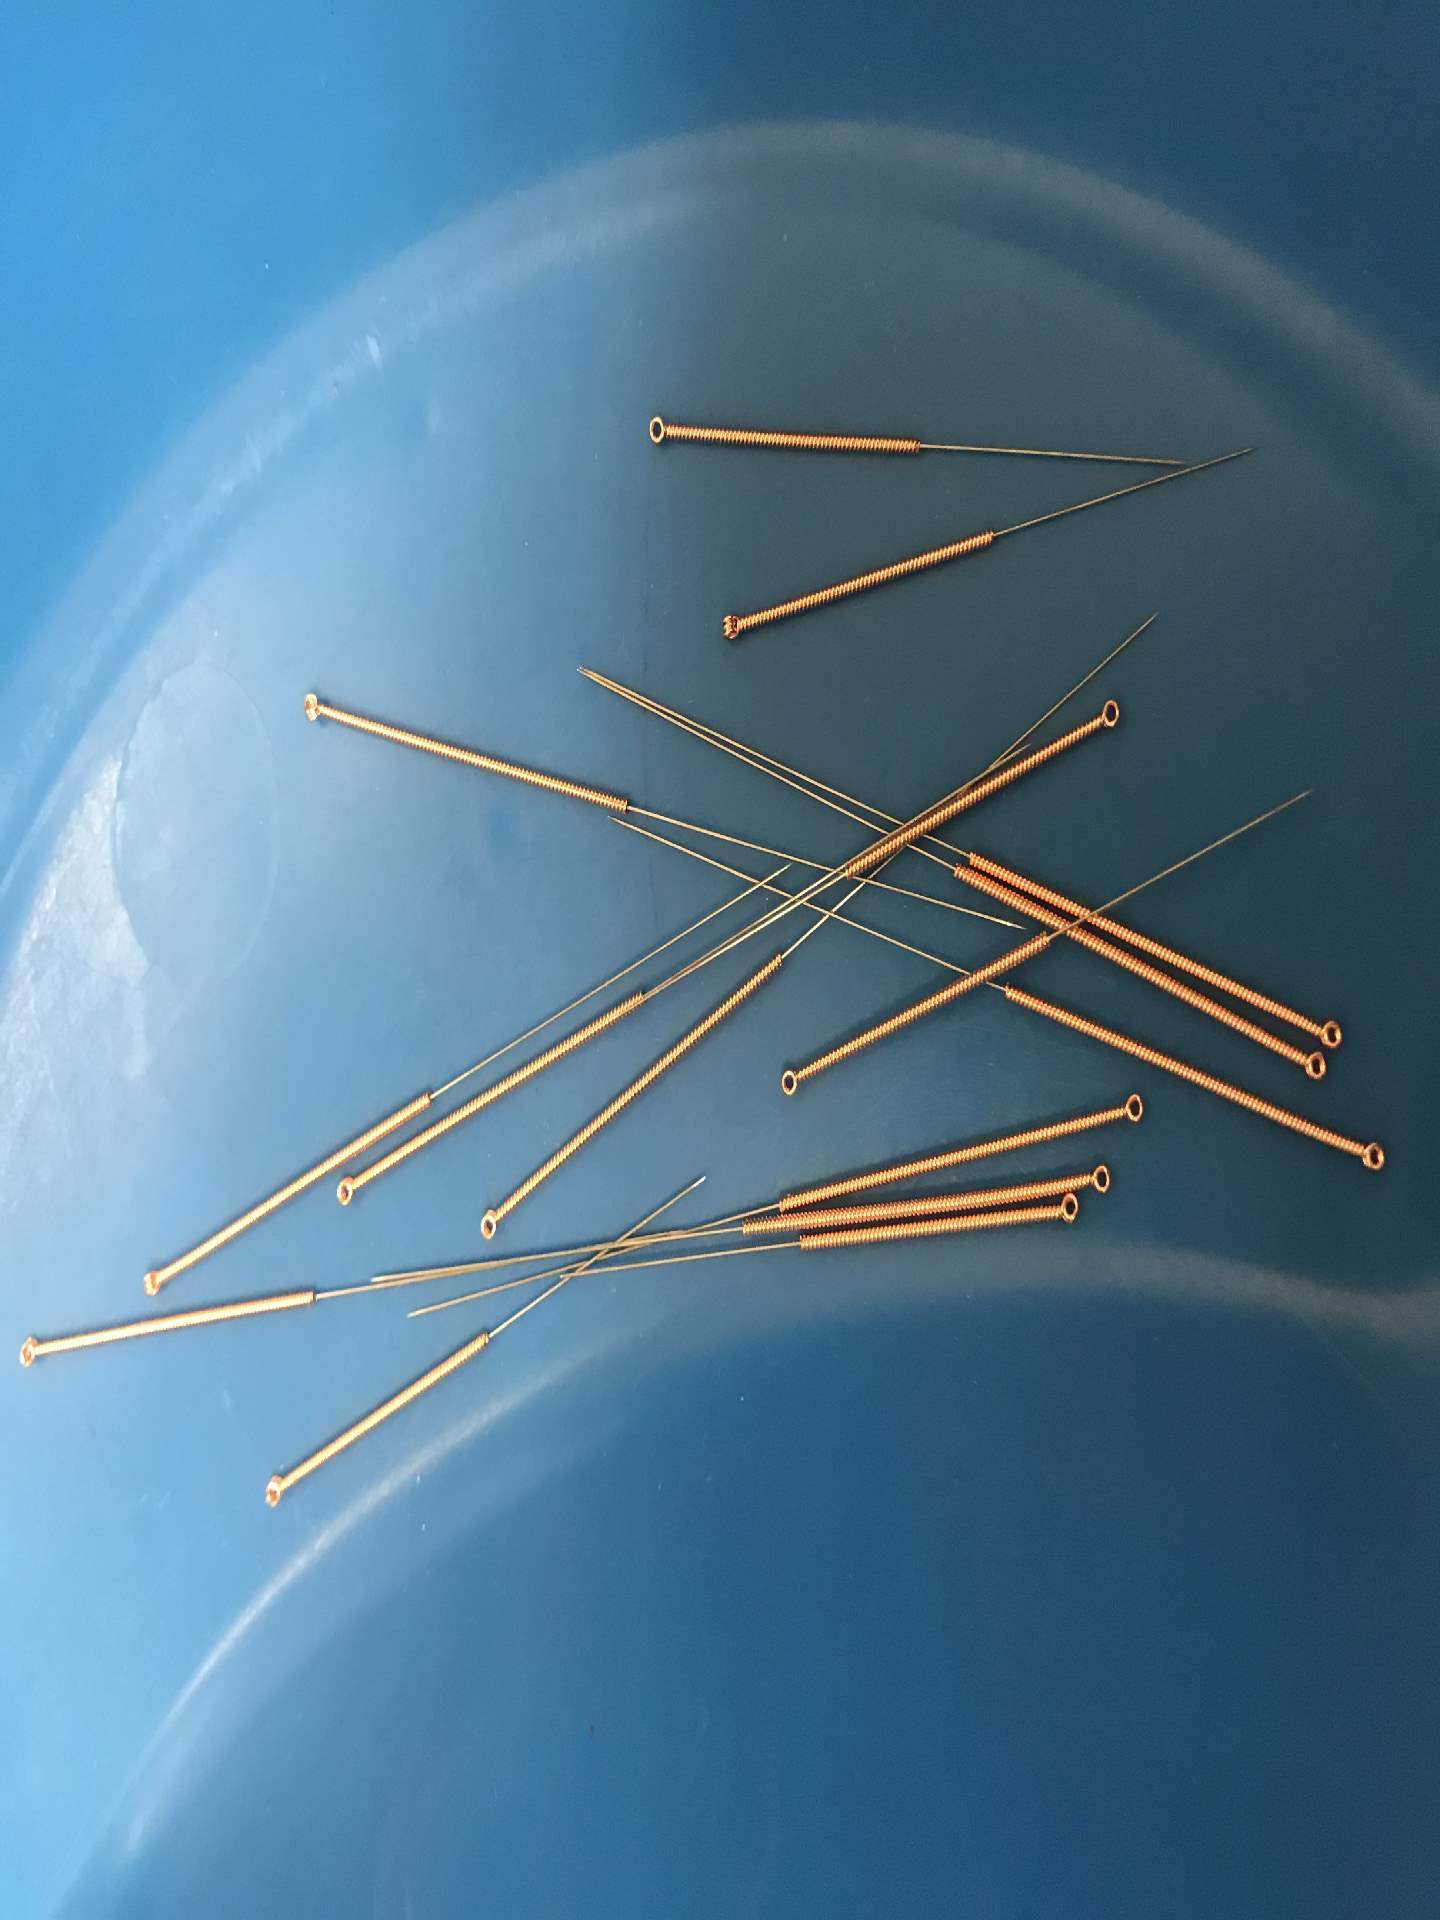needle: (635, 404, 681, 460), (1349, 1129, 1395, 1185), (706, 600, 752, 650), (1283, 1040, 1333, 1084), (284, 683, 331, 729), (1110, 1084, 1153, 1132), (1085, 692, 1125, 739), (771, 1058, 812, 1105), (1307, 1005, 1346, 1054), (1047, 1188, 1088, 1234), (256, 1468, 293, 1516), (9, 1330, 48, 1376), (325, 1172, 366, 1214), (470, 1200, 508, 1246), (132, 1261, 169, 1305), (1080, 1157, 1116, 1200)
